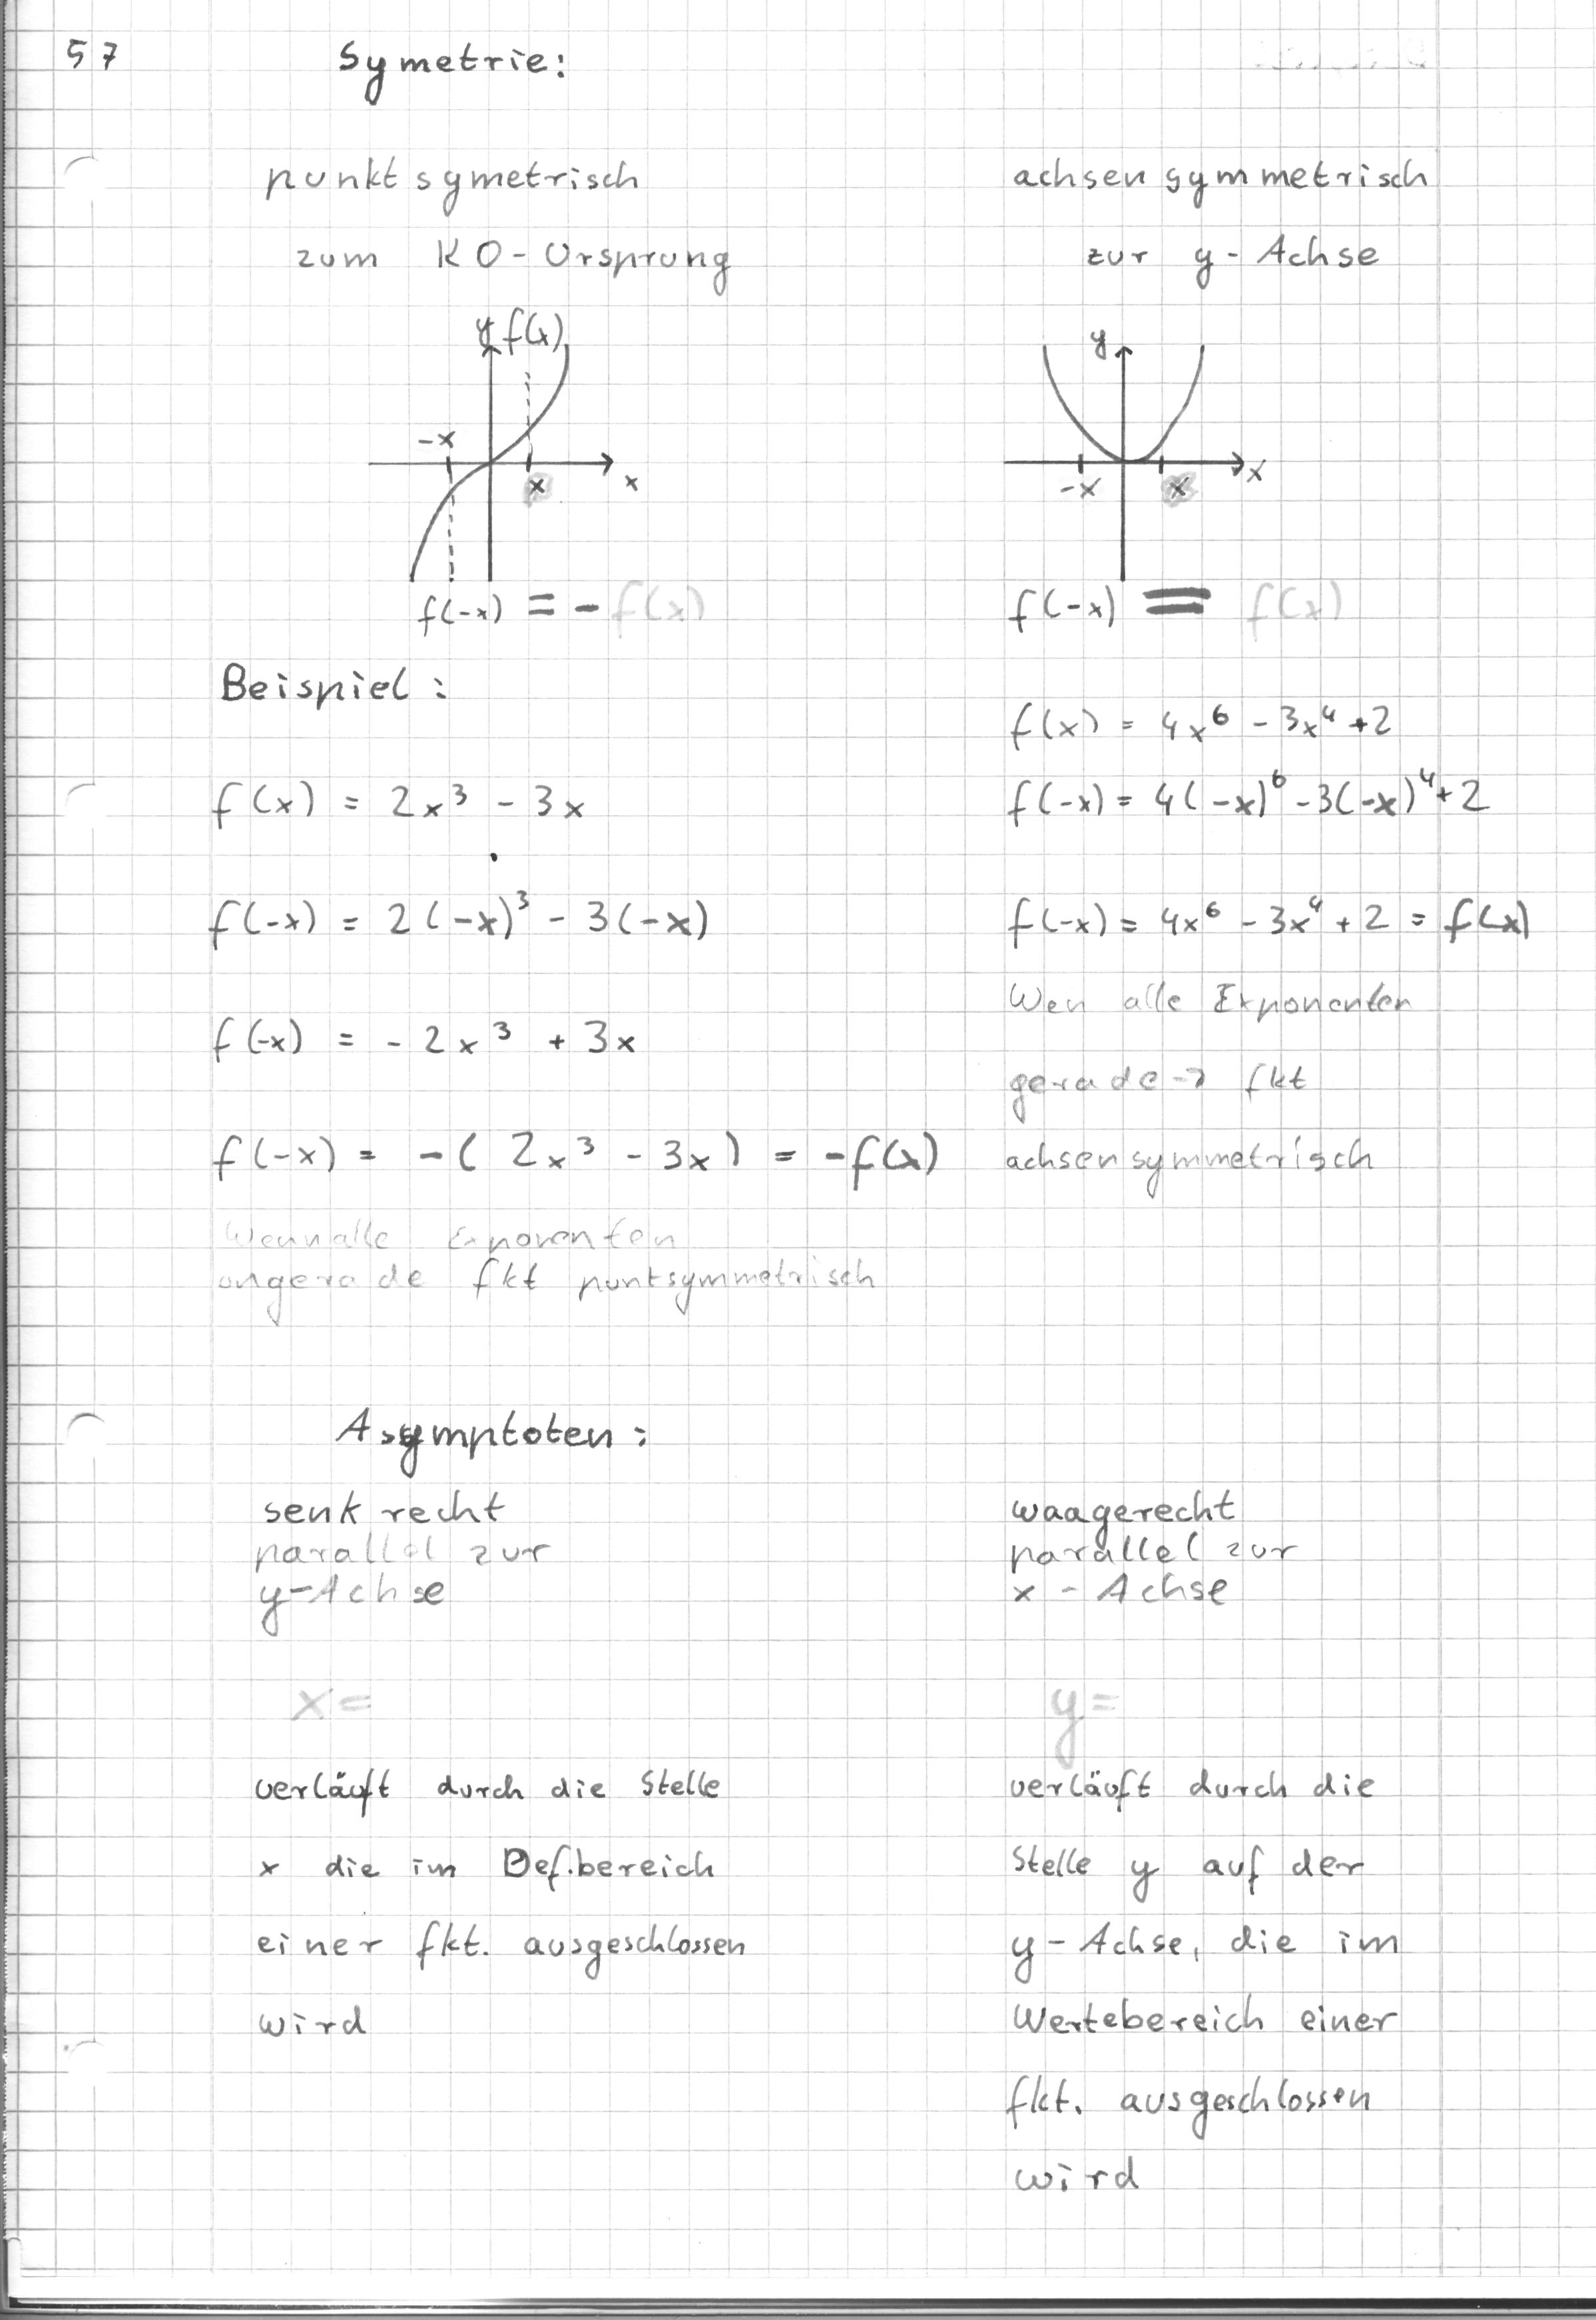word: (202, 768, 950, 1198), (997, 1756, 1423, 2204), (244, 1753, 760, 2066), (981, 686, 1547, 956), (260, 146, 736, 304), (998, 146, 1440, 290), (238, 1470, 537, 1554), (997, 1476, 1264, 1561)
